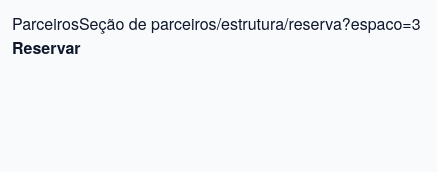
Test case: preserva parâmetros da reserva e os fragmentos das seções dentro da rota do Pages
This screenshot has width=437, height=172.
Expected: the heading "Reservar" is shown, [12, 36, 81, 59]
Expected: the text "/estrutura/reserva?espaco=3" is shown, [217, 12, 421, 35]
Click the link "Seção de parceiros".
click(148, 24)  # box [79, 12, 217, 35]
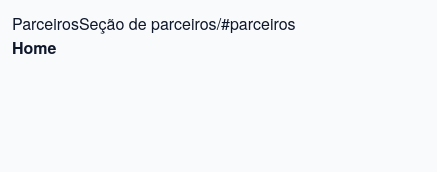
Result: the text "/#parceiros" is shown at [217, 12, 296, 35]
